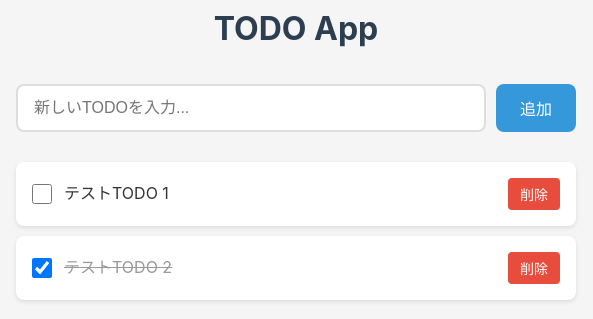
App › TODOを削除できる
Expected: the text "テストTODO 1" is shown, x1=64 y1=183 x2=169 y2=203
What coordinates should you click on to do the following:
click the button "削除" in the row of "テストTODO 1"
I would click on:
 (534, 194)
Its box is x1=508 y1=178 x2=560 y2=210.
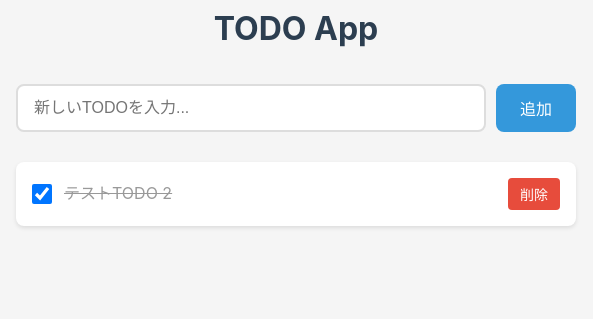
Result: the text "テストTODO 1" is gone
